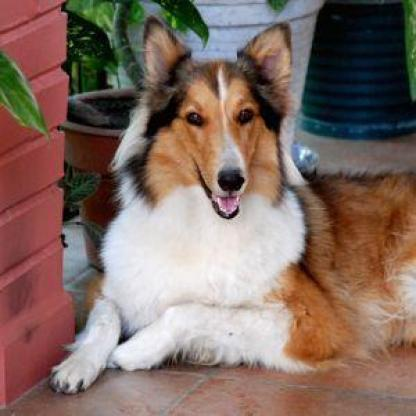collie: (51, 16, 414, 394)
